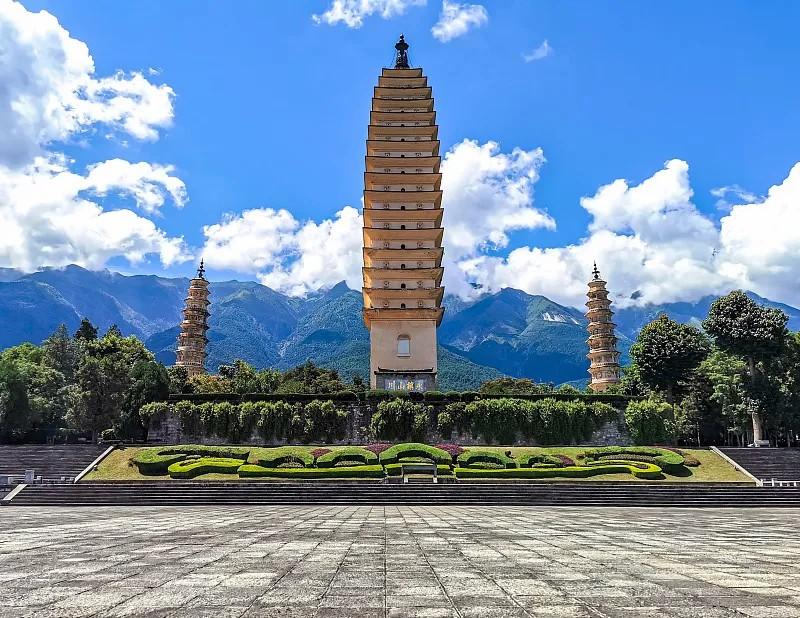ThreePagoda: (363, 33, 446, 389)
